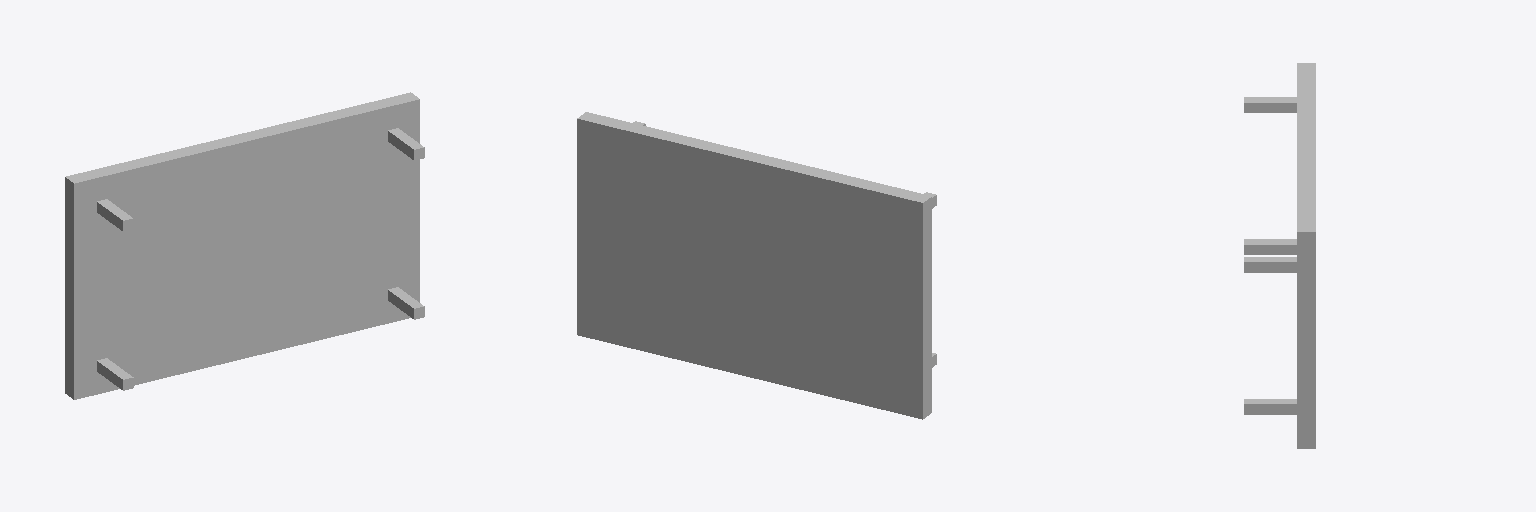
Rendered from random_table74.obj.
3 renders of one model, left to right at view 1: azimuth 30°, elevation 25°; view 2: azimuth 150°, elevation 25°; view 3: azimuth 270°, elevation 25°, orthographic.
Visible parts, largest first — view 1: Table_Cube.1435, TableLeg0_Cube.1436, TableLeg1_Cube.1437, TableLeg2_Cube.1438, TableLeg3_Cube.1439; view 2: Table_Cube.1435; view 3: Table_Cube.1435, TableLeg0_Cube.1436, TableLeg1_Cube.1437, TableLeg2_Cube.1438, TableLeg3_Cube.1439.
Part boxes in pixels (left/top/right/bottom): Table_Cube.1435: left=65, top=92, right=419, bottom=399; TableLeg0_Cube.1436: left=388, top=128, right=424, bottom=160; TableLeg1_Cube.1437: left=97, top=199, right=133, bottom=231; TableLeg2_Cube.1438: left=388, top=287, right=424, bottom=319; TableLeg3_Cube.1439: left=97, top=358, right=133, bottom=390; Table_Cube.1435: left=577, top=112, right=931, bottom=419; Table_Cube.1435: left=1297, top=63, right=1315, bottom=448; TableLeg0_Cube.1436: left=1244, top=239, right=1296, bottom=254; TableLeg1_Cube.1437: left=1244, top=97, right=1296, bottom=112; TableLeg2_Cube.1438: left=1244, top=399, right=1296, bottom=414; TableLeg3_Cube.1439: left=1244, top=257, right=1296, bottom=272.
Bounding box in the file's own units: 12.38 × 7.41 × 2.23.